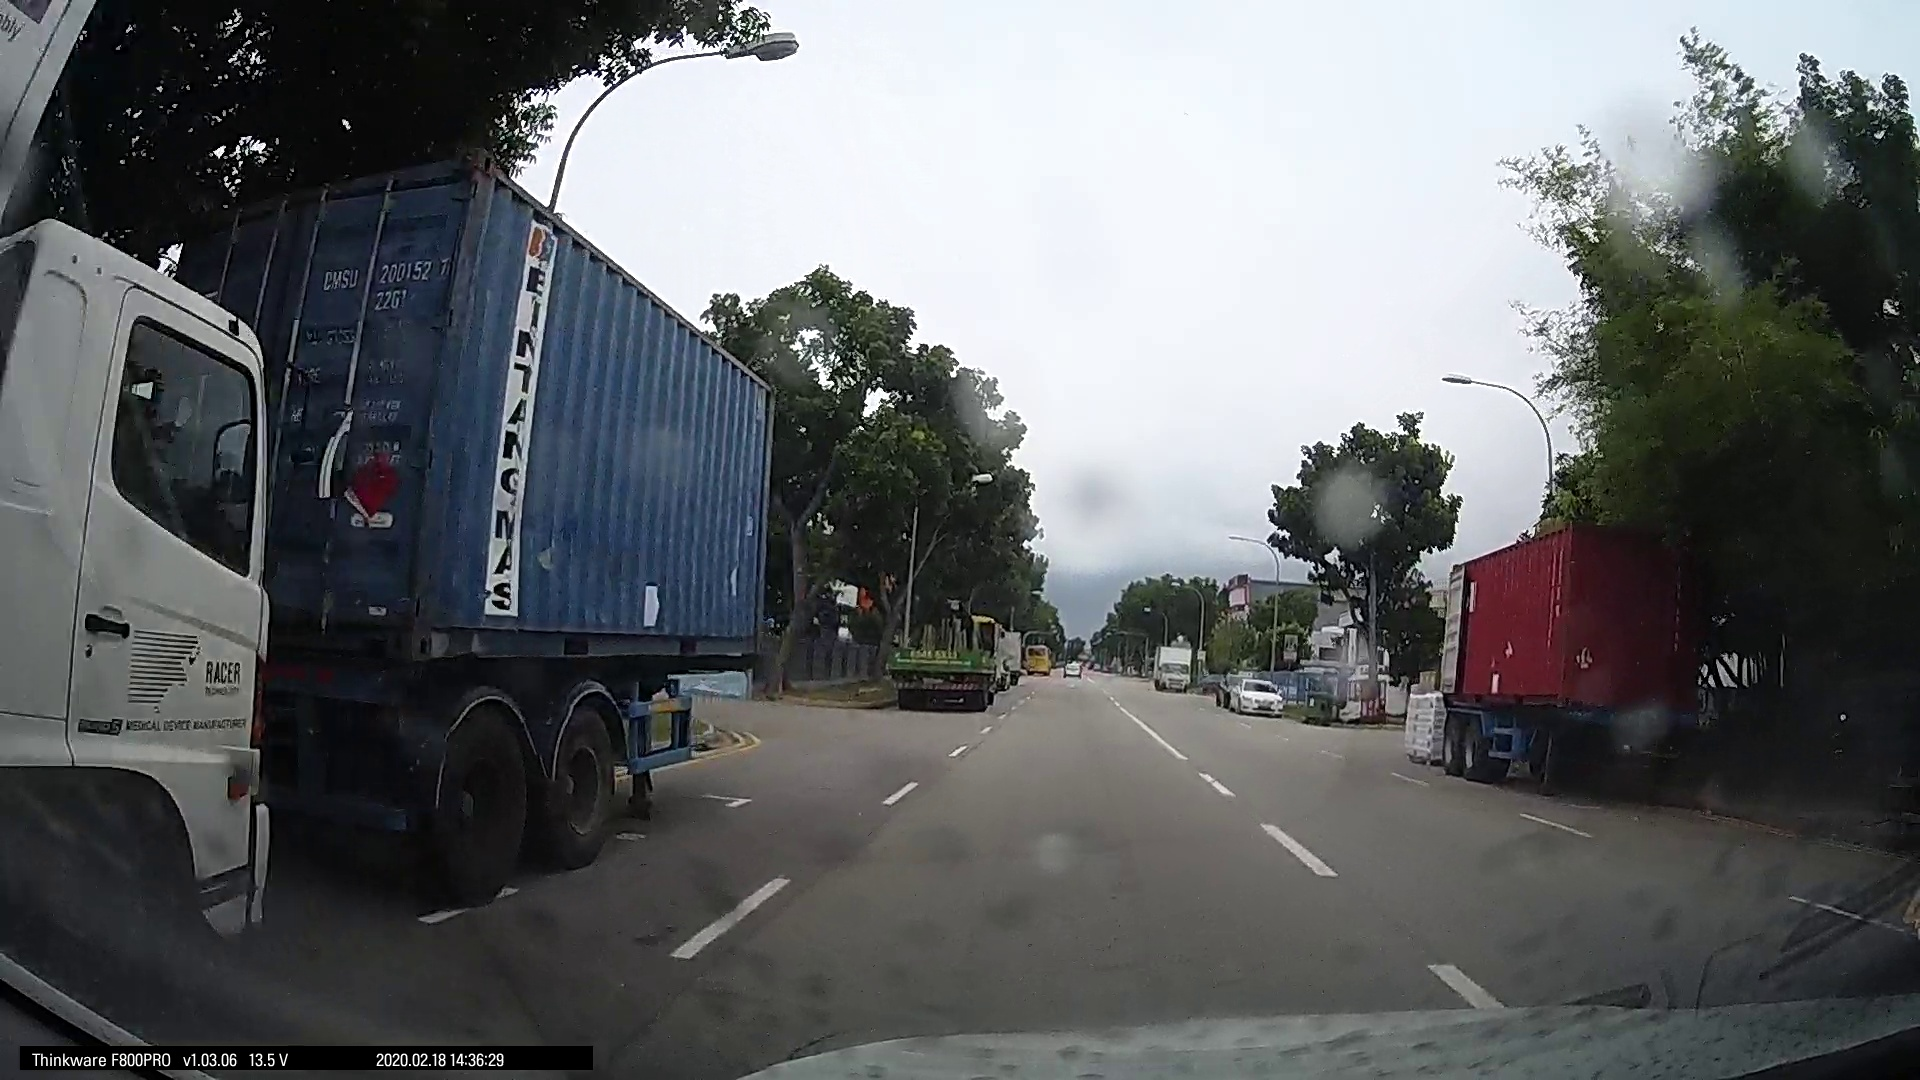Heavy Vehicle: (183, 132, 773, 895), (1, 208, 278, 992), (1428, 512, 1698, 781)
Light Vehicle: (1218, 669, 1284, 717), (1149, 644, 1193, 692)
